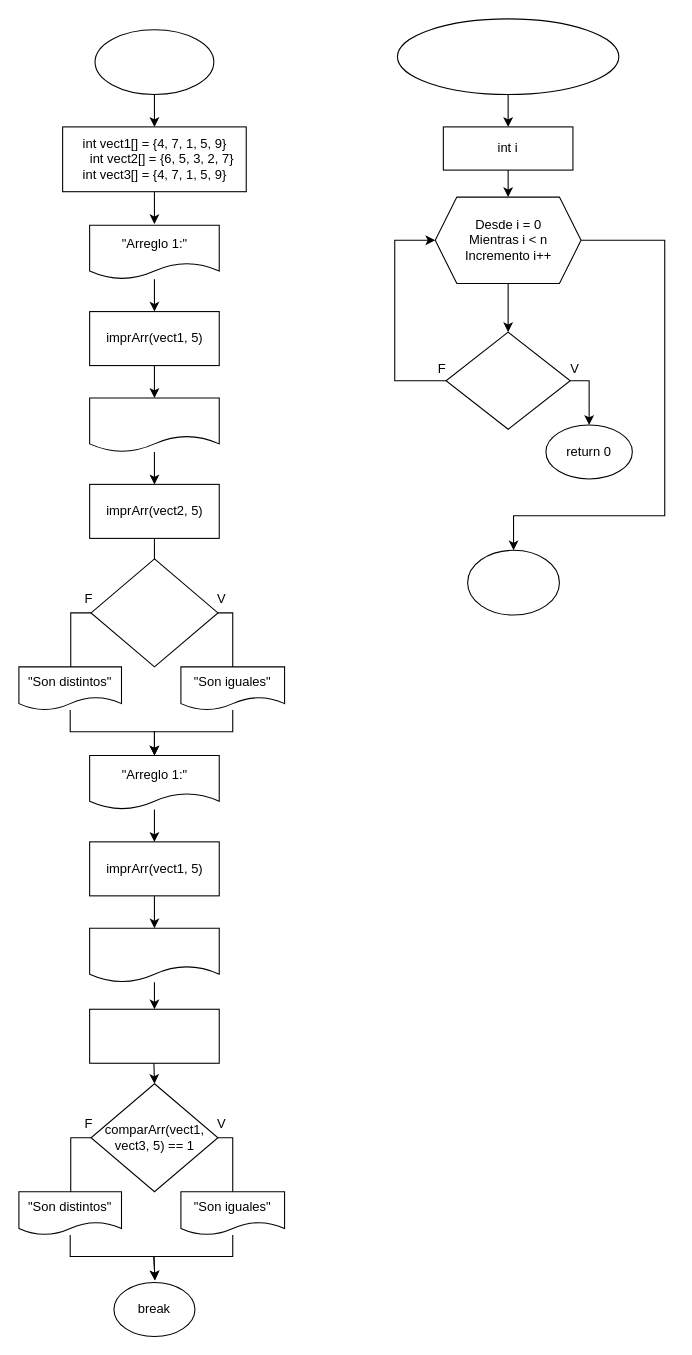
Image size: 692x1355. Some labels were removed from this diagram. The centre of each missing label's shape, as x and y in pixels:
"Arreglo 2:": the point at 154,424
"Arreglo 3:": the point at 154,954
*(arr1 + i) != *(arr2 + i): the point at 507,380
Case 4:: the point at 154,61
comparArr(int *arr1, int *arr2, int n): the point at 507,56
comparArr(vect1, vect2, 5) == 1: the point at 154,612
imprArr(vect3, 5): the point at 154,1035
return 1: the point at 513,582
